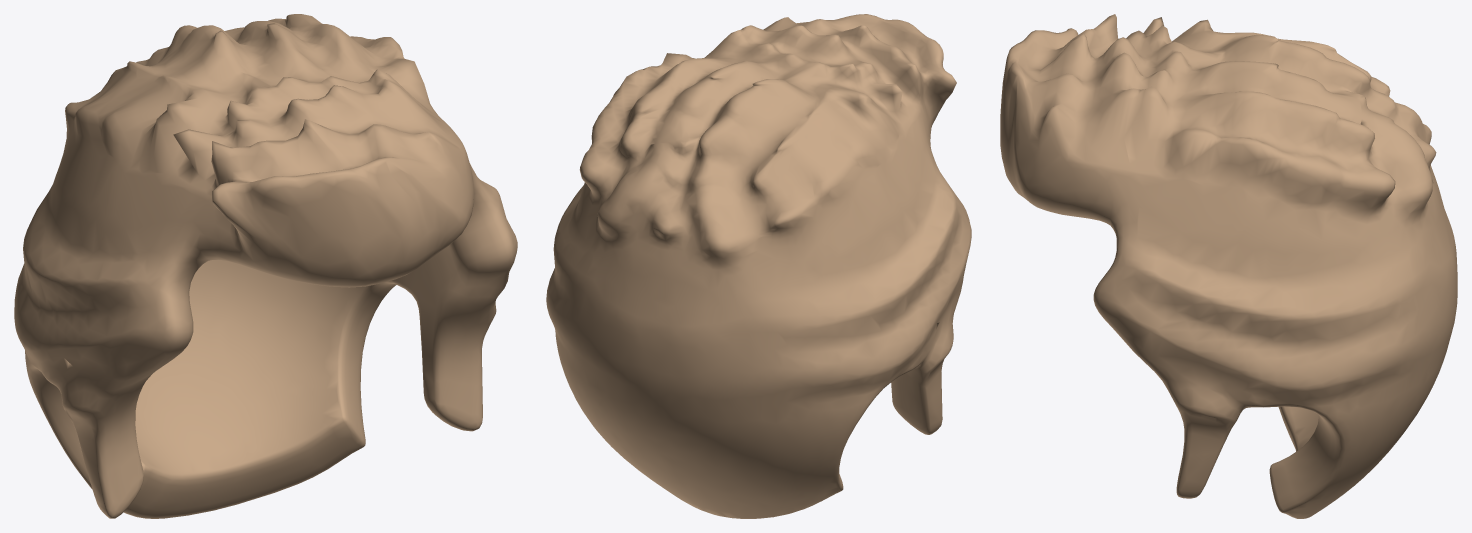
File: hair-6-183d900d.glb
3 views of the same model, side by side, from view 1: azimuth 30°, elevation 25°; view 2: azimuth 150°, elevation 25°; view 3: azimuth 270°, elevation 25° (orthographic). The views are drawn at different scales.
Parts seen in each view (by area): view 1: Geo_White_Old_Male_Hair_6.001; view 2: Geo_White_Old_Male_Hair_6.001; view 3: Geo_White_Old_Male_Hair_6.001.
Part boxes in pixels (bbox=[...]): Geo_White_Old_Male_Hair_6.001: bbox=[14, 14, 517, 518]; Geo_White_Old_Male_Hair_6.001: bbox=[546, 14, 971, 518]; Geo_White_Old_Male_Hair_6.001: bbox=[1000, 14, 1457, 518].
Size of the model in its own units: 1.46 by 1.65 by 1.52.
